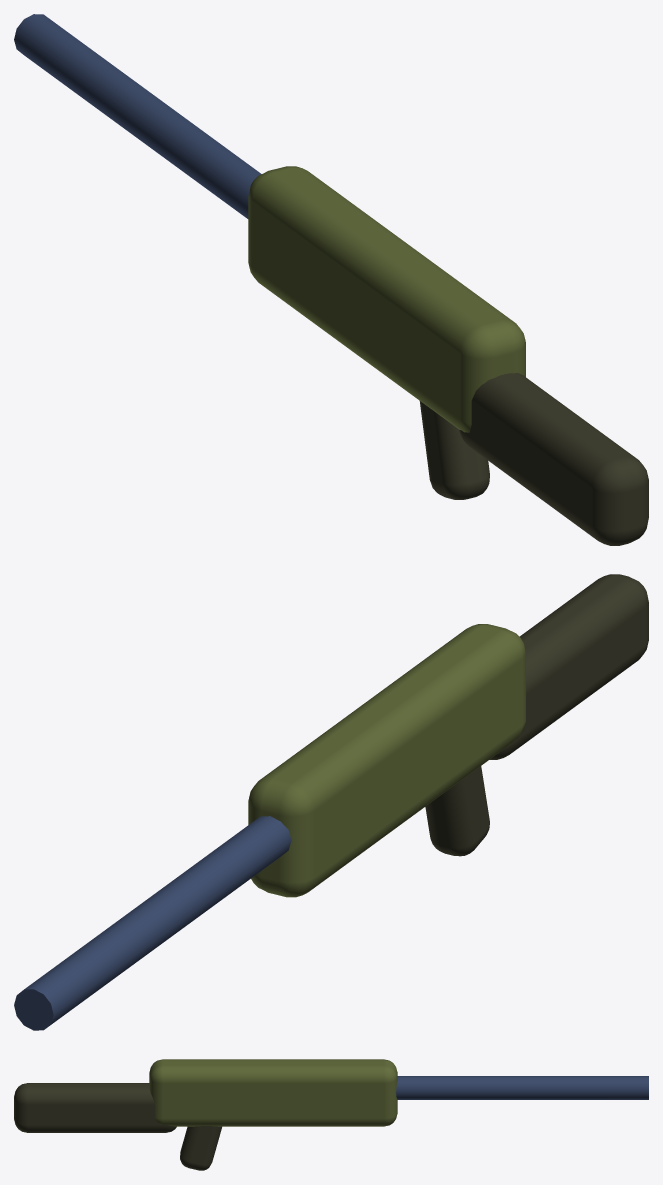
File: placeholder_m60.glb
The picture shows the model from 3 angles, top to bottom: view 1: azimuth 30°, elevation 25°; view 2: azimuth 150°, elevation 25°; view 3: azimuth 270°, elevation 25°; orthographic projection. The views are drawn at different scales.
Parts seen in each view (by area): view 1: body, placeholder_m60; view 2: body, placeholder_m60; view 3: body, placeholder_m60.
Part boxes in pixels (left/top/right/bottom): body: left=248, top=166, right=525, bottom=432; placeholder_m60: left=14, top=14, right=648, bottom=545; body: left=248, top=624, right=525, bottom=897; placeholder_m60: left=14, top=574, right=648, bottom=1030; body: left=149, top=1059, right=397, bottom=1126; placeholder_m60: left=14, top=1076, right=648, bottom=1170.
Bounding box in the file's own units: 0.07 × 0.2108 × 1.15.
